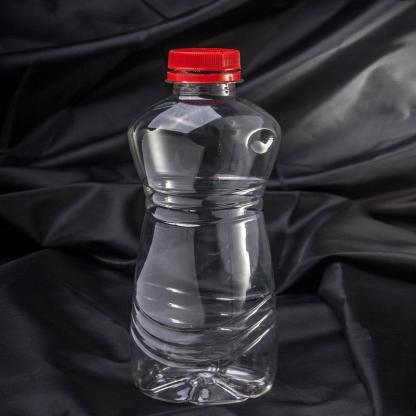plastic-bottles: (120, 46, 282, 405)
